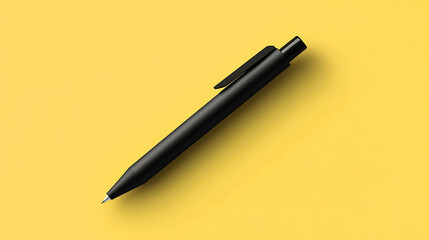pen: (97, 33, 313, 212)
